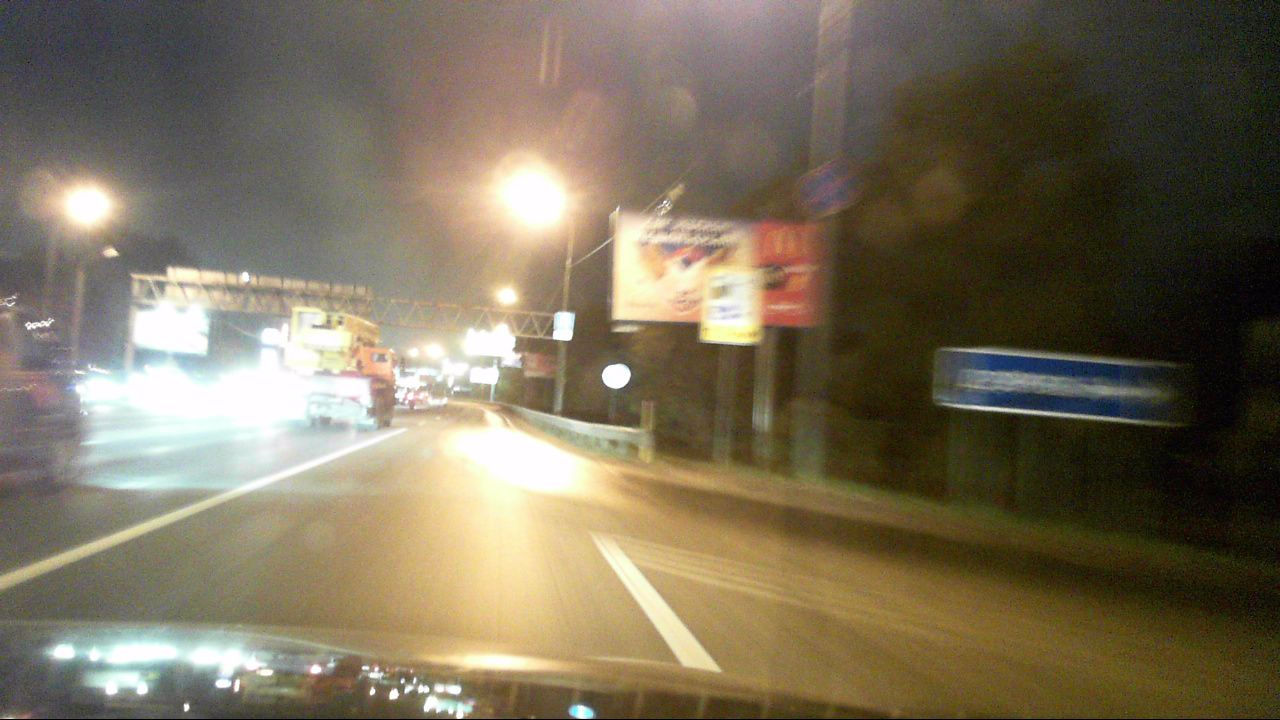No Parking: (817, 158, 865, 207)
